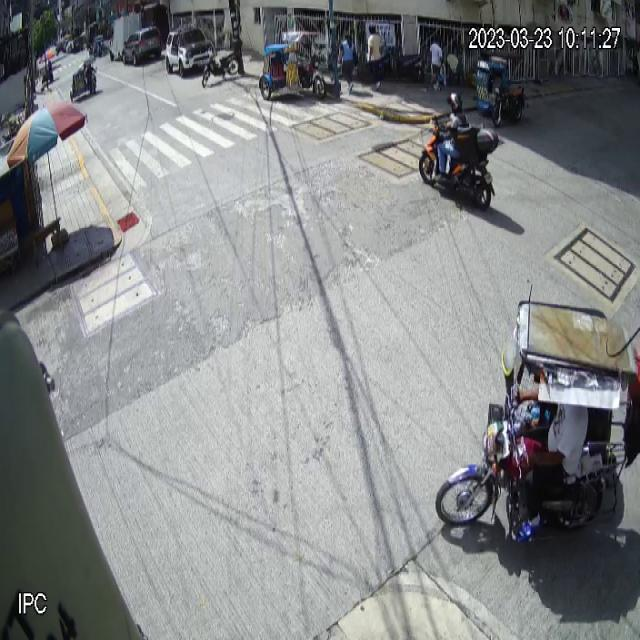Motorcycle: (418, 114, 499, 213)
Tricycle: (434, 299, 640, 542)
